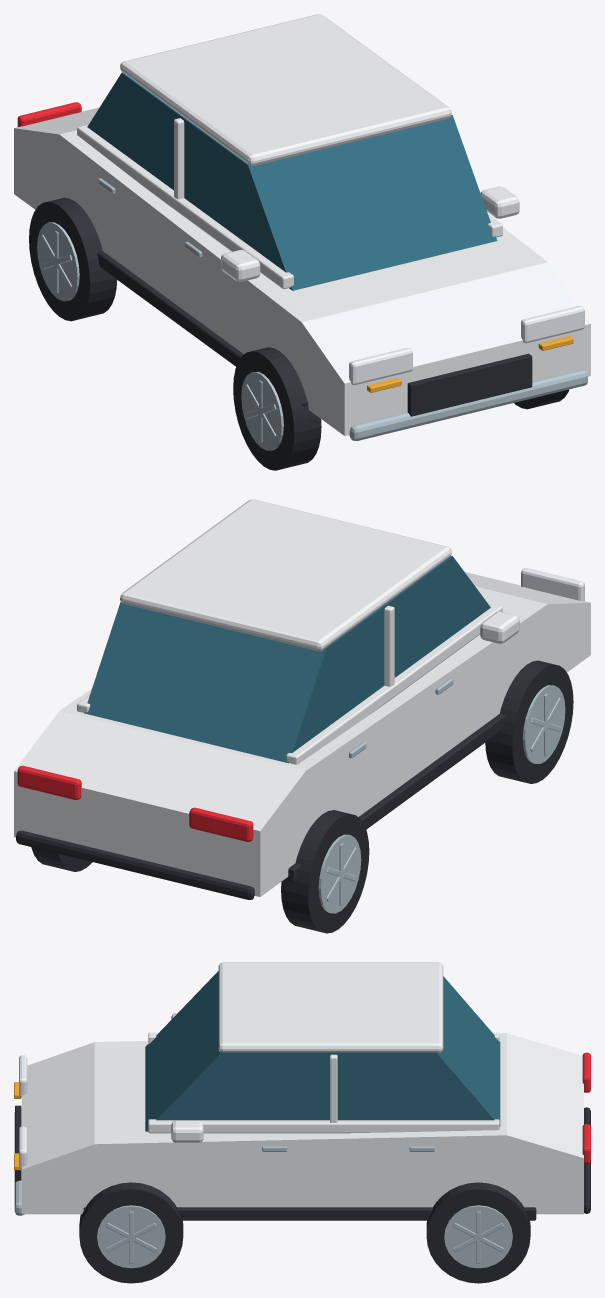
The model's file is taiwan-car-white.glb.
The picture shows the model from 3 angles, top to bottom: view 1: azimuth 30°, elevation 25°; view 2: azimuth 150°, elevation 25°; view 3: azimuth 270°, elevation 25°; orthographic projection. The views are drawn at different scales.
Parts seen in each view (by area): view 1: Sculpted compact crossover, Cabin, Roof, Rubber tyre.002, Rubber tyre, Front grille, Lower window rail, Front bumper, Rocker trim, Wheel hub.002, Wheel hub, Headlamp.001 (+5 smaller); view 2: Sculpted compact crossover, Cabin, Roof, Rubber tyre, Rubber tyre.002, Lower window rail, Rear bumper, Rocker trim, Wheel hub, Wheel hub.002, Tail lamp, Tail lamp.001 (+4 smaller); view 3: Sculpted compact crossover, Cabin, Roof, Rubber tyre.003, Rubber tyre.001, Lower window rail.001, Rocker trim.001, Wheel hub.003, Wheel hub.001, Side mirror.001, Window divider.001, Rear bumper.
Boxes of the visible parts, x1,y1,x2,y2 form: Sculpted compact crossover: (14, 107, 590, 435); Cabin: (87, 72, 497, 290); Roof: (120, 14, 451, 165); Rubber tyre.002: (233, 347, 321, 470); Rubber tyre: (29, 197, 116, 321); Front grille: (407, 353, 532, 416); Lower window rail: (77, 125, 293, 289); Front bumper: (349, 369, 587, 440); Rocker trim: (97, 251, 308, 406); Wheel hub.002: (241, 371, 283, 450); Wheel hub: (37, 222, 79, 301); Headlamp.001: (521, 306, 584, 343); Sculpted compact crossover: (14, 572, 590, 896); Cabin: (84, 555, 490, 763); Roof: (120, 499, 451, 651); Rubber tyre: (281, 810, 369, 933); Rubber tyre.002: (485, 660, 573, 783); Lower window rail: (286, 604, 502, 764); Rear bumper: (16, 830, 254, 899); Rocker trim: (287, 714, 504, 882); Wheel hub: (318, 834, 361, 913); Wheel hub.002: (522, 685, 565, 763); Tail lamp: (189, 807, 253, 841); Tail lamp.001: (17, 765, 81, 799); Sculpted compact crossover: (21, 1033, 583, 1214); Cabin: (145, 971, 500, 1131); Roof: (218, 962, 443, 1052); Rubber tyre.003: (79, 1182, 183, 1283); Rubber tyre.001: (426, 1182, 530, 1283); Lower window rail.001: (148, 1119, 499, 1133); Rocker trim.001: (83, 1207, 536, 1220); Wheel hub.003: (97, 1205, 165, 1268); Wheel hub.001: (444, 1205, 512, 1268); Side mirror.001: (171, 1120, 203, 1142); Window divider.001: (330, 1054, 337, 1122); Rear bumper: (584, 1107, 590, 1213).
Size of the model in its own units: 2 by 1.75 by 4.11.
